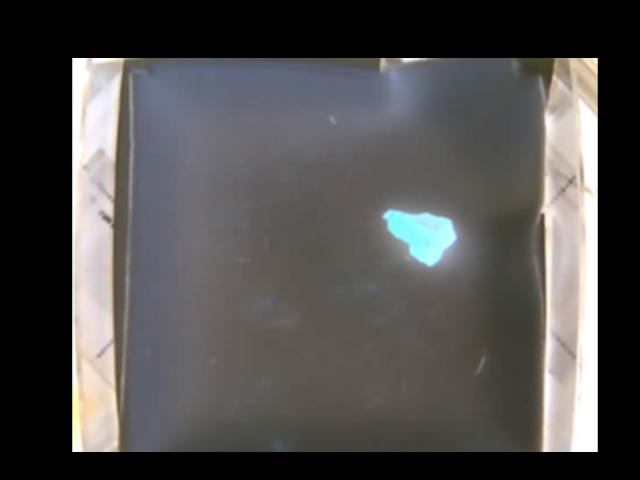Brisk: (383, 205, 455, 264)
